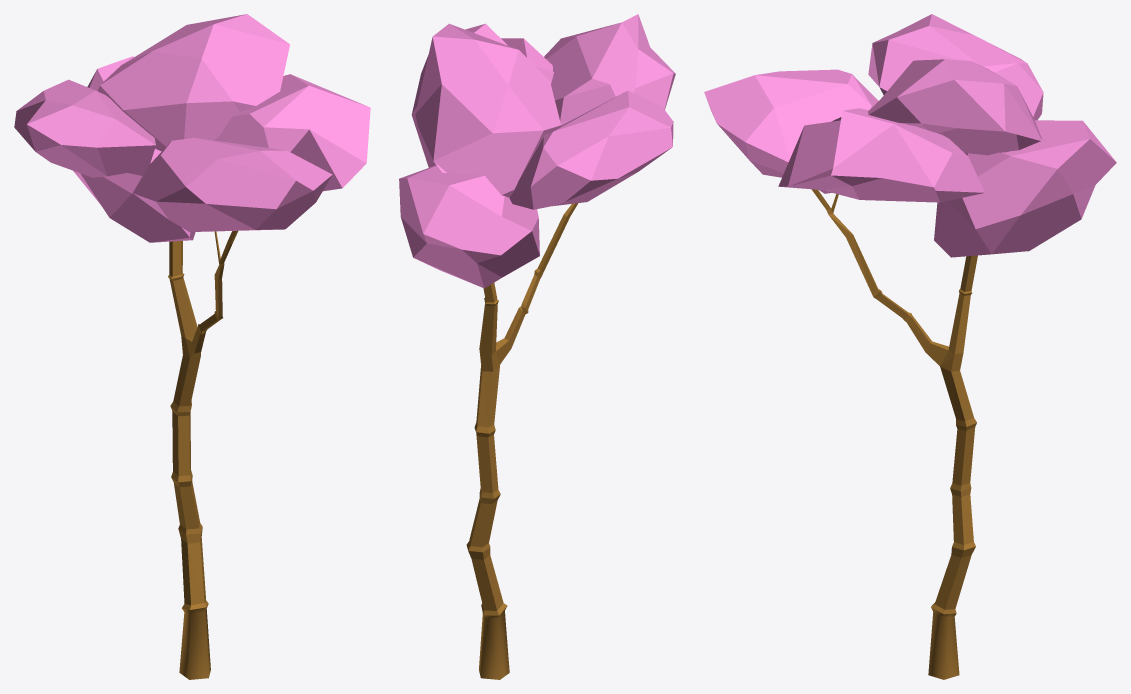
Rendered from Tree_07.FBX.
The picture shows the model from 3 angles, left to right: view 1: azimuth 30°, elevation 25°; view 2: azimuth 150°, elevation 25°; view 3: azimuth 270°, elevation 25°; orthographic projection. The views are drawn at different scales.
Visible parts, largest first — view 1: Hedra005, Cylinder005; view 2: Hedra005, Cylinder005; view 3: Hedra005, Cylinder005.
Part boxes in pixels (box(x1,y1,x2,y2)): Hedra005: box(14, 14, 370, 242); Cylinder005: box(168, 230, 238, 679); Hedra005: box(399, 14, 675, 288); Cylinder005: box(466, 203, 578, 679); Hedra005: box(704, 14, 1116, 257); Cylinder005: box(811, 189, 977, 679).
Size of the model in its own units: 18.04 by 37.94 by 22.81.
